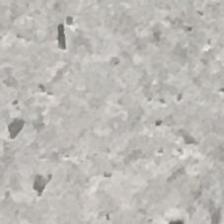Non_Crack: (12, 6, 216, 215)
